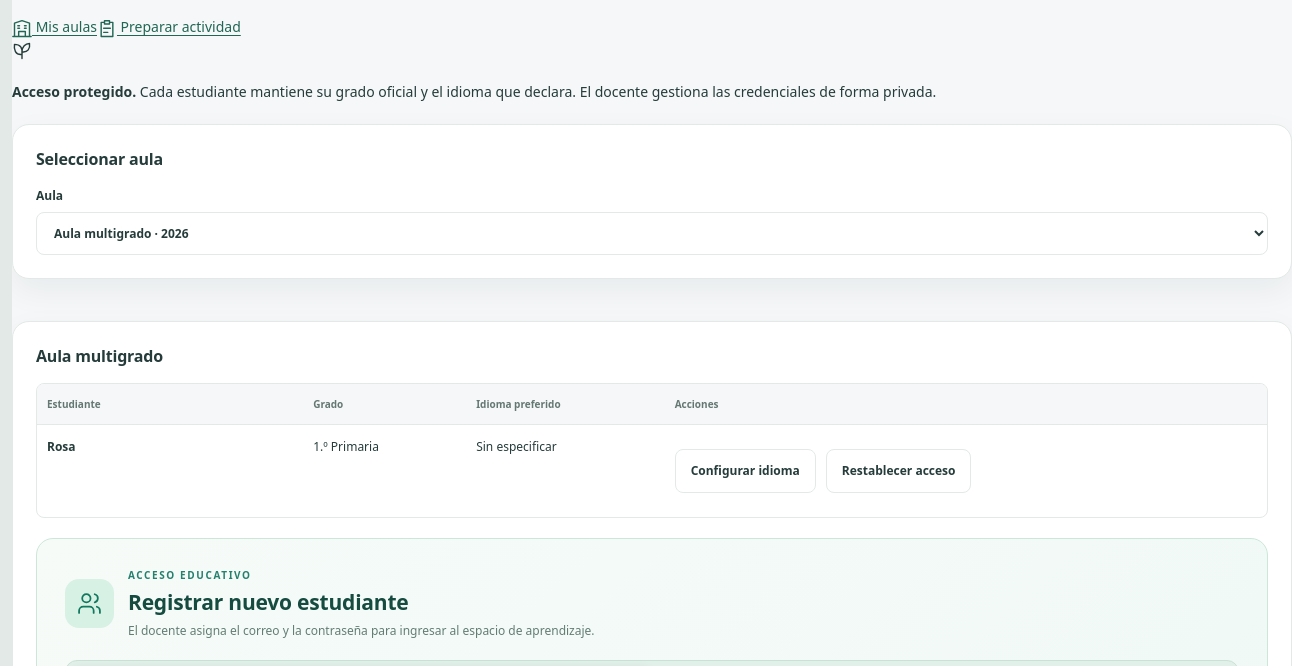
Test: Gestión de estudiantes e idiomas › carga la preferencia declarada y guarda el idioma completo sin inferirlo
Select "Aula multigrado · 2026" in the dropdown labelled "Aula" at [652, 234], box top-left (36, 212), bottom-right (1268, 255)
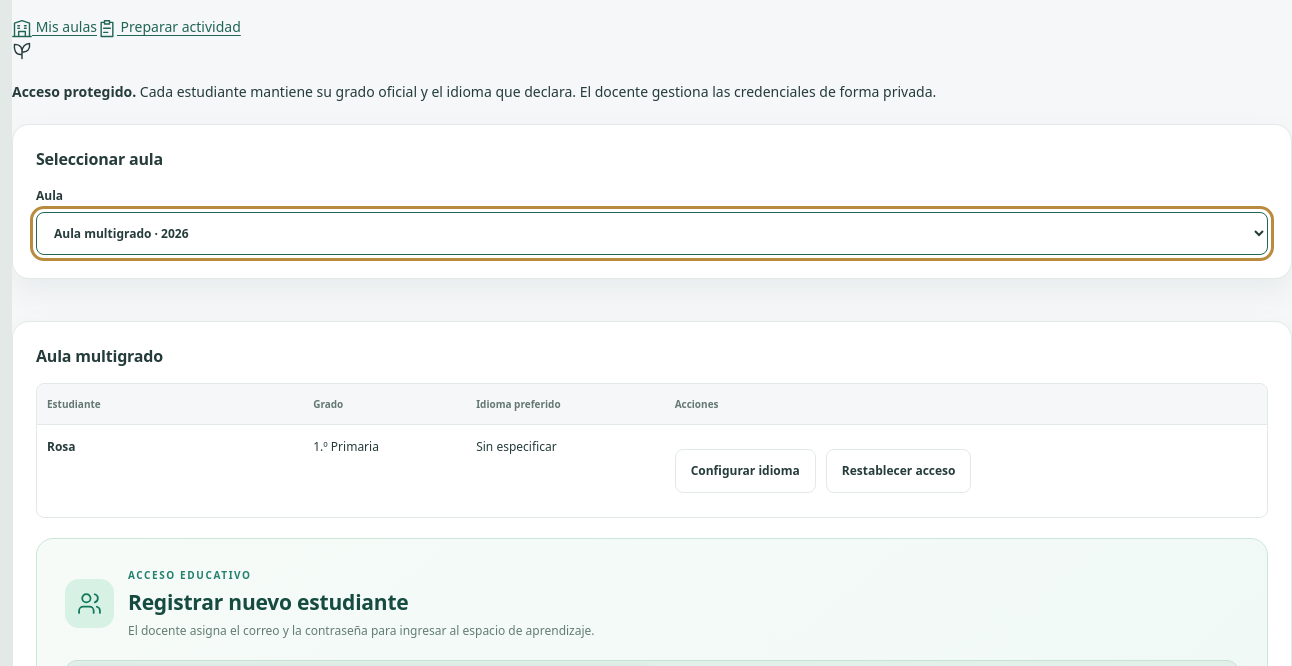
Click the button "Configurar idioma" at [745, 471], box top-left (675, 449), bottom-right (816, 493)
(page scrolled)
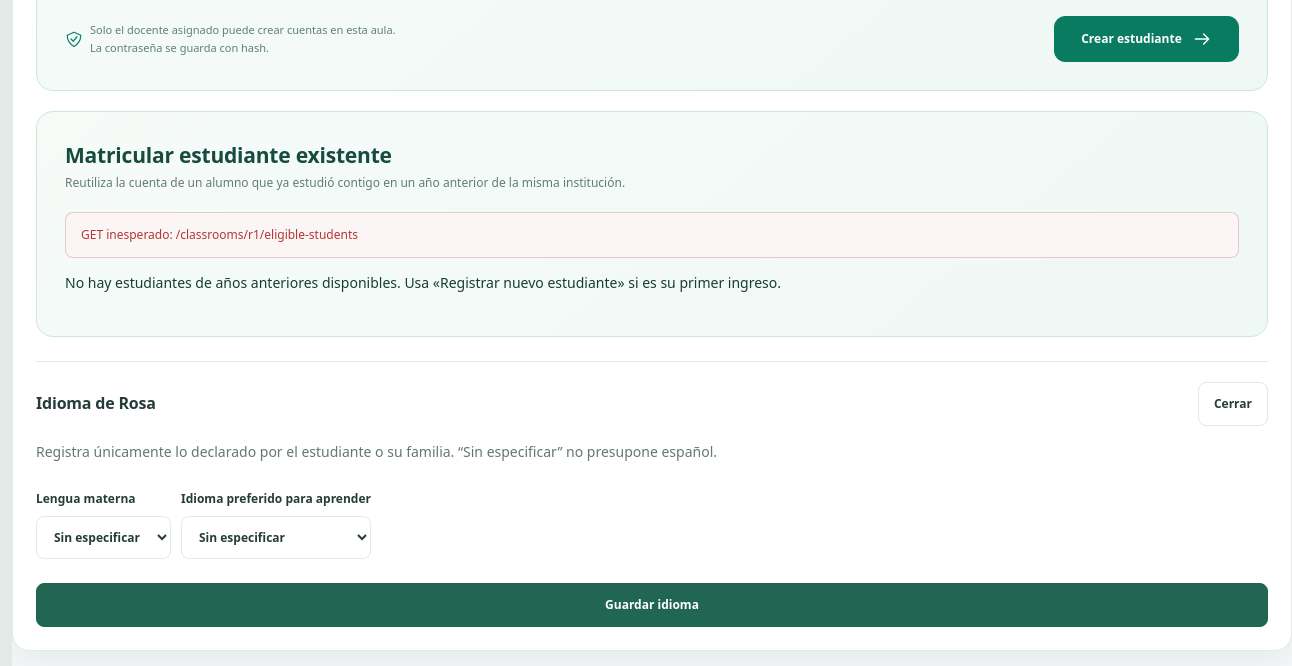
Select "Quechua" in the dropdown labelled "Lengua materna" at [104, 537], box top-left (36, 516), bottom-right (171, 558)
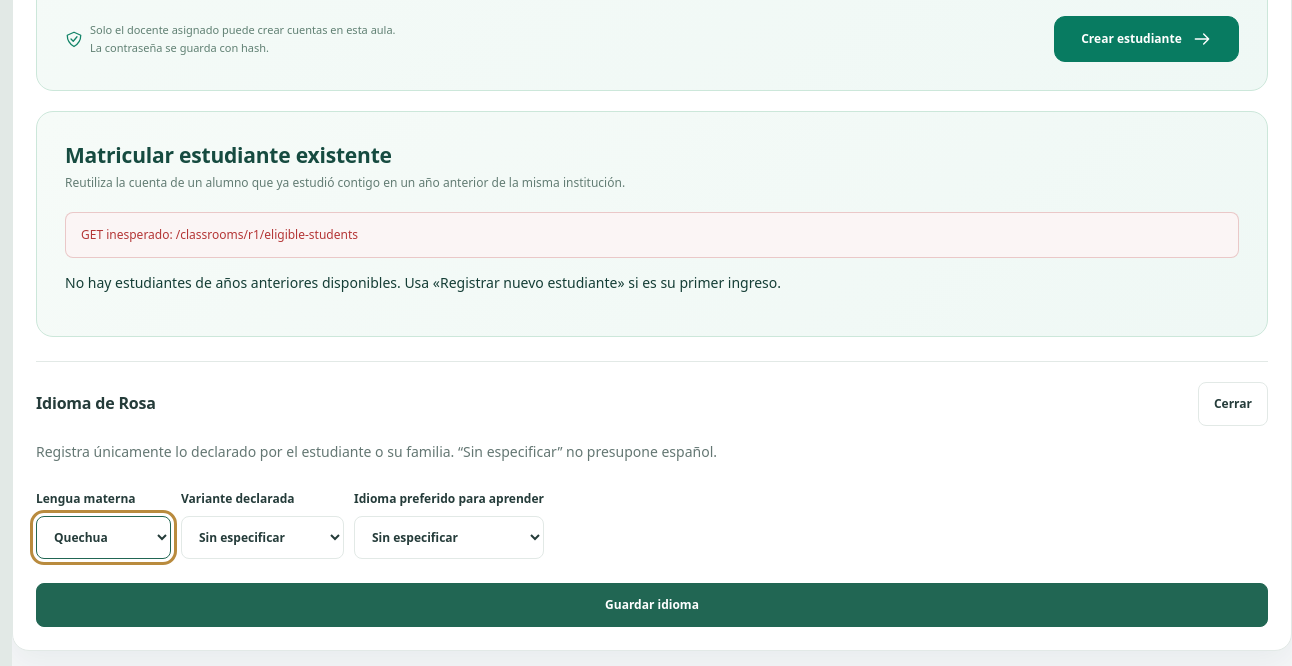
Select "Variante verificada" in the dropdown labelled "Variante declarada" at [262, 537], box top-left (181, 516), bottom-right (344, 558)
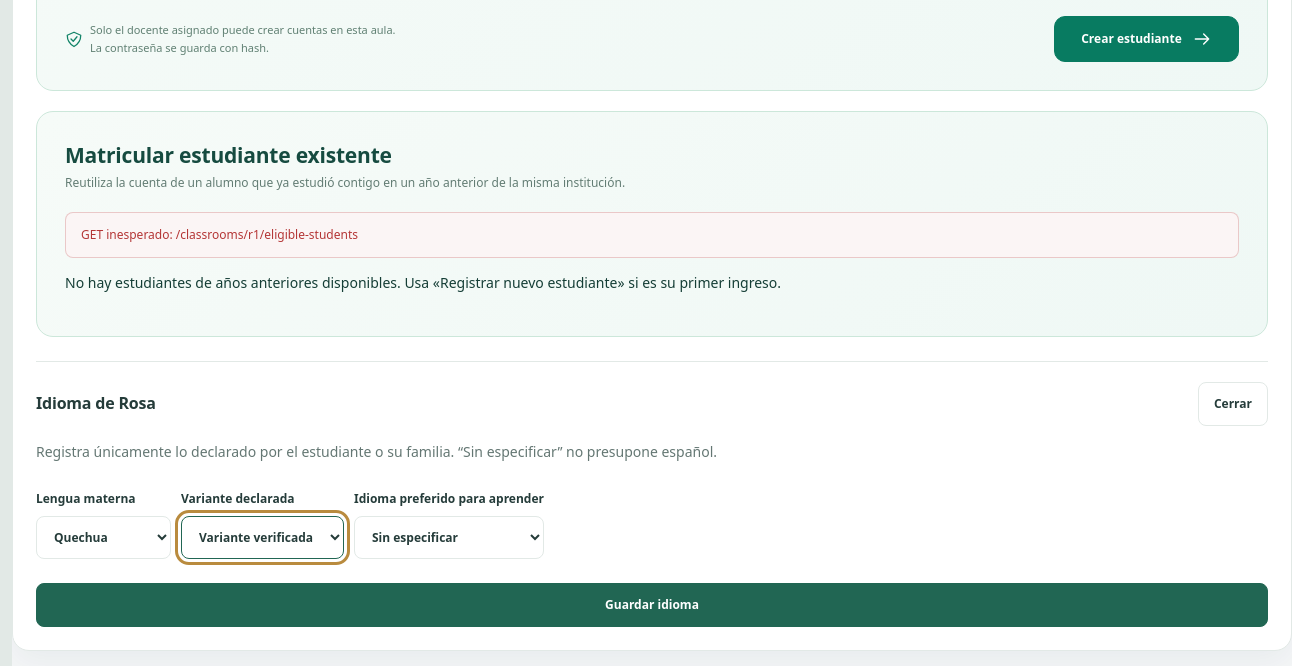
Select "Aimara" in the dropdown labelled "Idioma preferido para aprender" at [449, 537], box top-left (354, 516), bottom-right (544, 558)
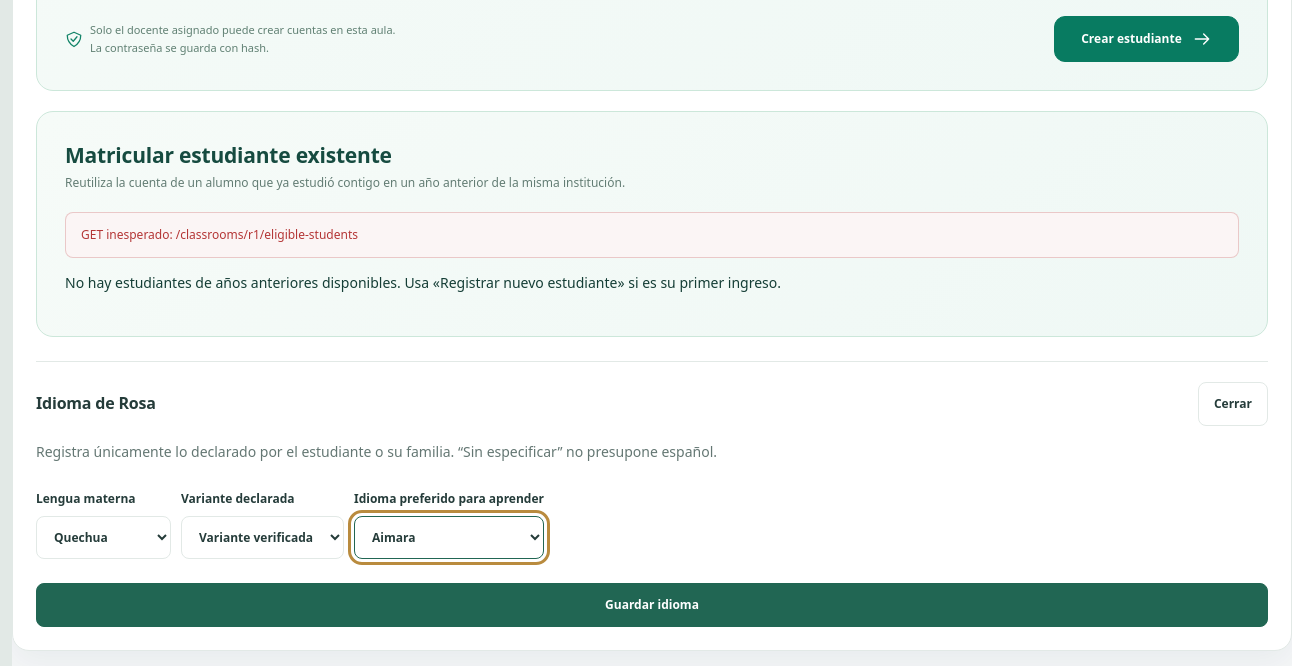
Click the button "Guardar idioma" at [652, 604], box top-left (36, 582), bottom-right (1268, 626)
(page scrolled)
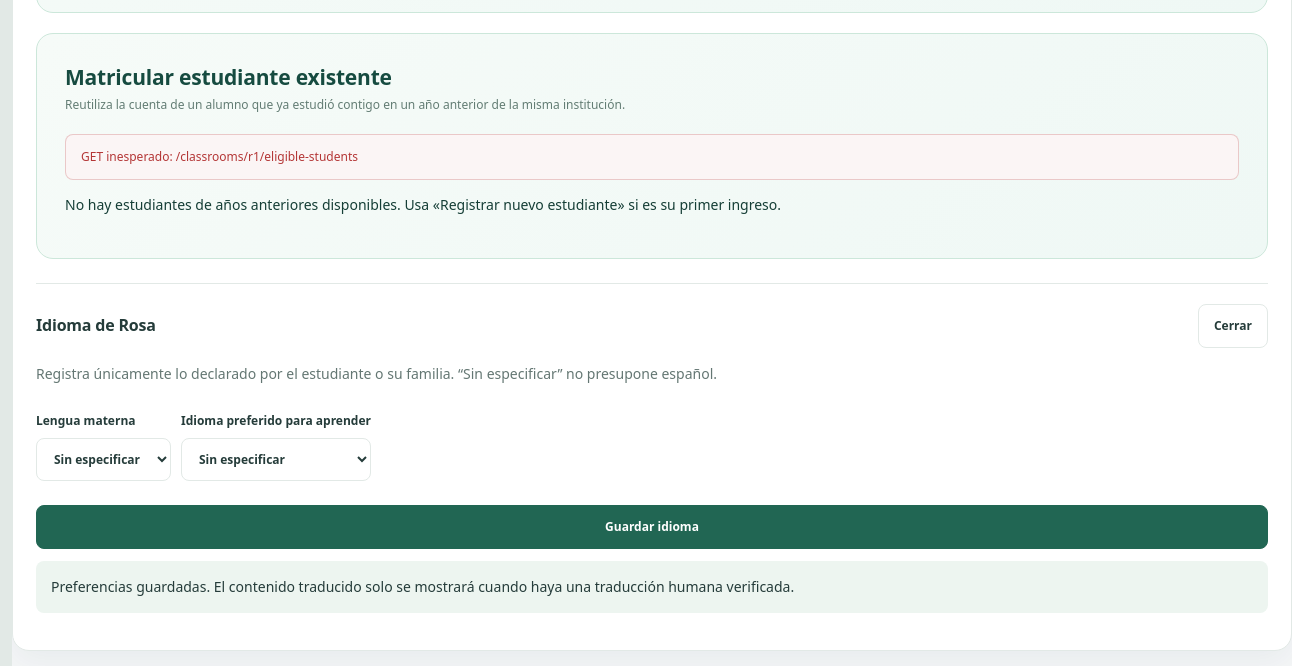
Expected: the text "traducción humana verificada" is shown, top-left (51, 576), bottom-right (794, 596)
